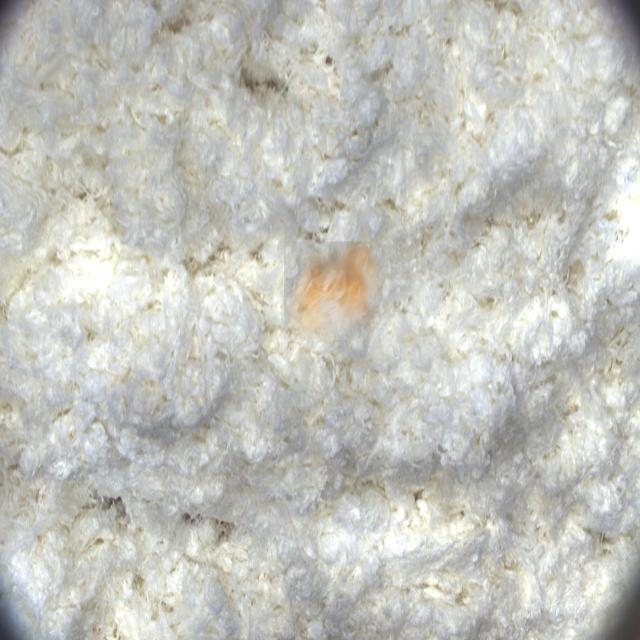dust: (284, 241, 382, 340)
